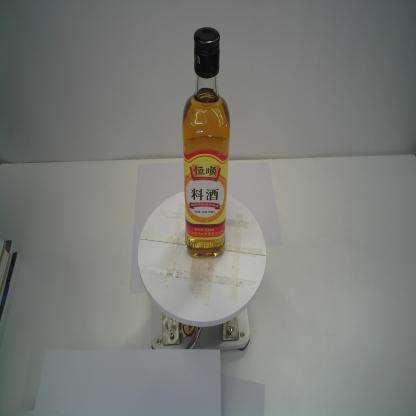Seasoner: (180, 24, 232, 263)
